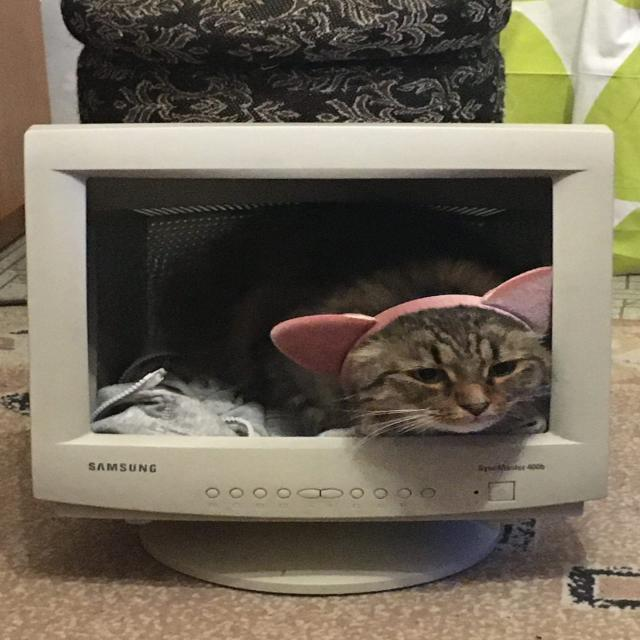Cats: (145, 194, 558, 435)
